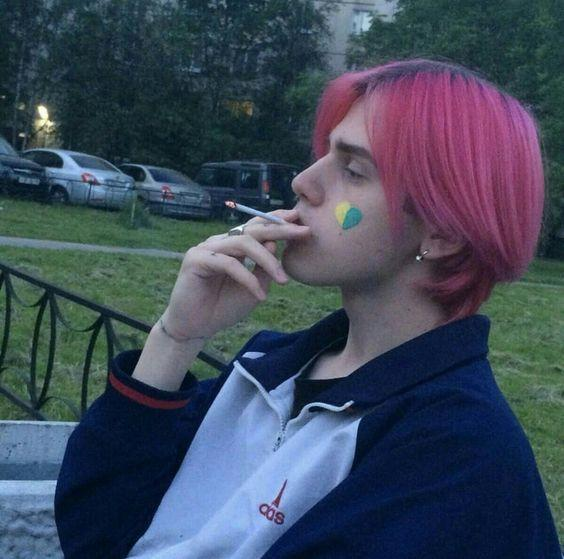cigarette: (224, 201, 290, 225)
